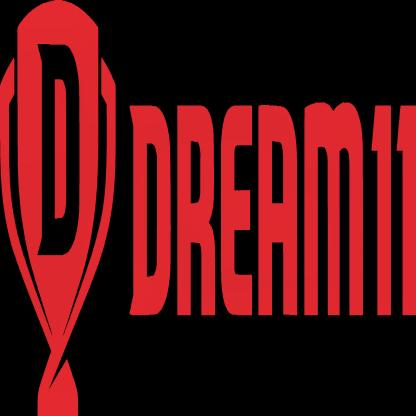Dream11: (127, 99, 415, 323), (2, 2, 118, 416)
